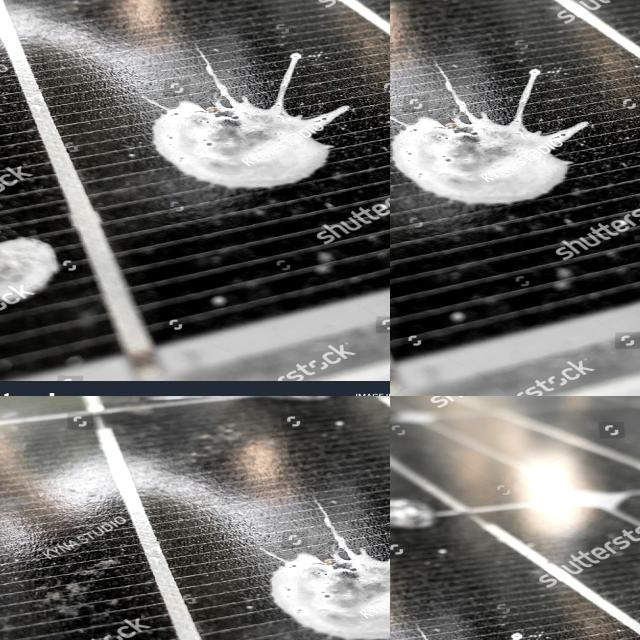bird: (390, 491, 498, 544), (390, 458, 451, 506)
crack: (0, 0, 236, 156), (189, 0, 390, 152)
panel: (390, 0, 563, 36), (492, 0, 640, 39), (443, 0, 640, 28), (446, 0, 640, 14), (390, 0, 496, 21)
shadow: (190, 396, 381, 640)
